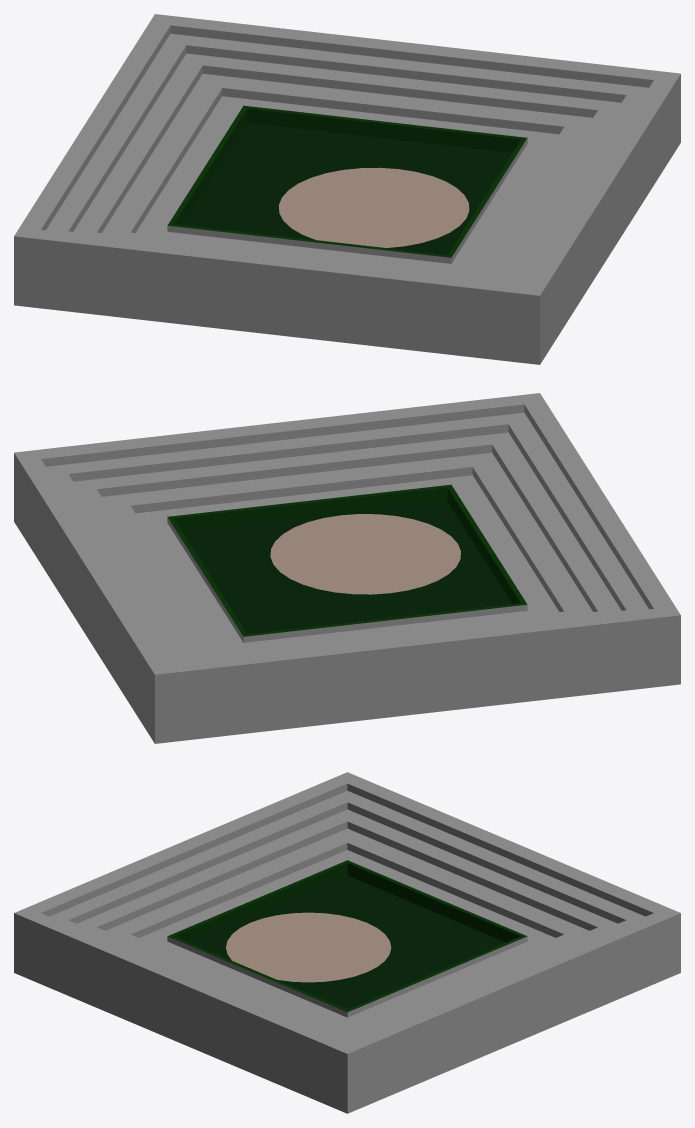
Rendered from stadium.fbx.
The picture shows the model from 3 angles, top to bottom: view 1: azimuth 30°, elevation 25°; view 2: azimuth 150°, elevation 25°; view 3: azimuth 270°, elevation 25°; orthographic projection. The views are drawn at different scales.
Parts seen in each view (by area): view 1: Stadium; view 2: Stadium; view 3: Stadium.
Part boxes in pixels (box(x1,y1,x2,y2)): Stadium: box(14, 14, 680, 364); Stadium: box(14, 393, 680, 743); Stadium: box(14, 772, 680, 1113).
Bounding box in the file's own units: 42426 × 4200 × 42426.
